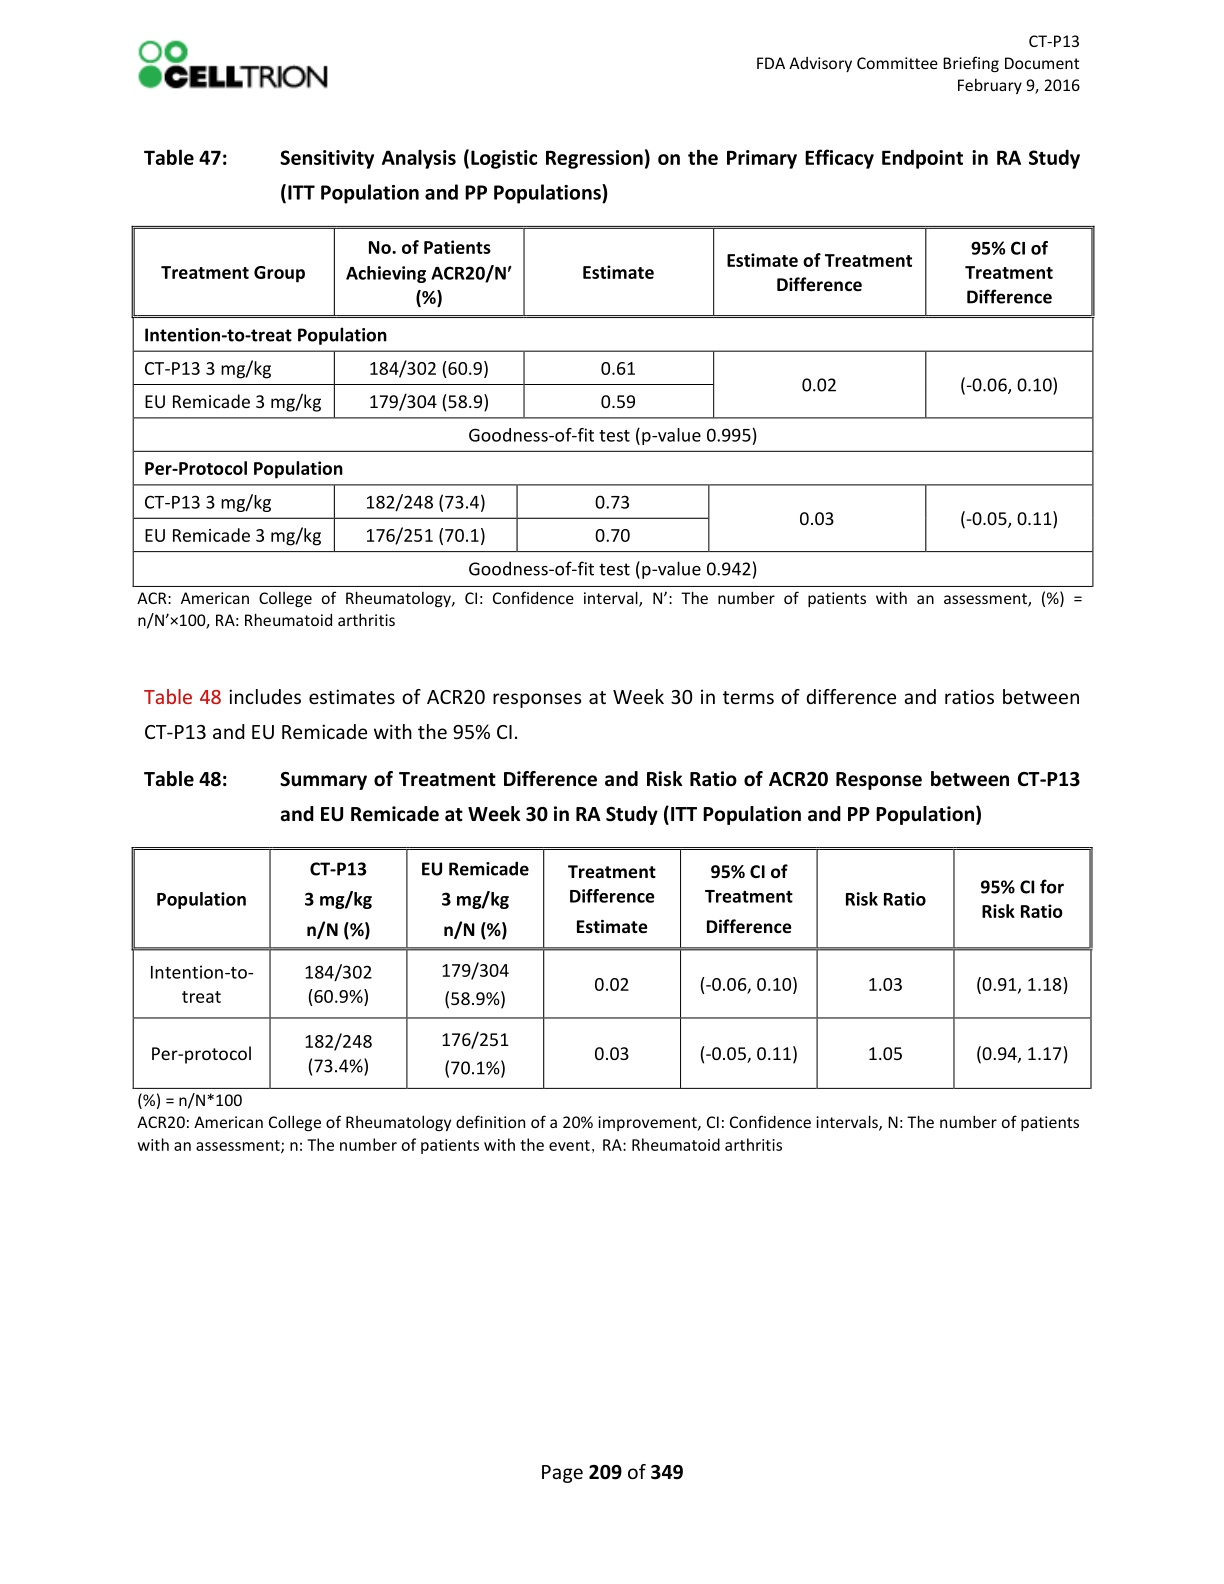full_lined: (130, 846, 1093, 1092)
merged_cells: (129, 225, 1095, 589)
